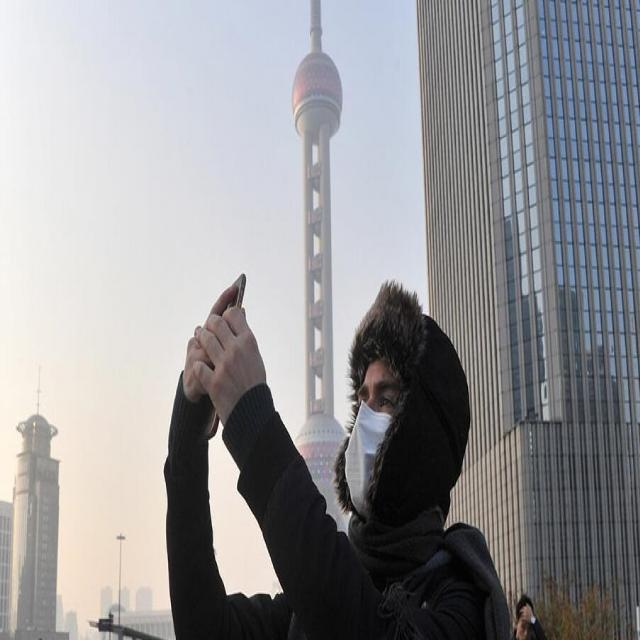mask: (346, 360, 398, 517)
